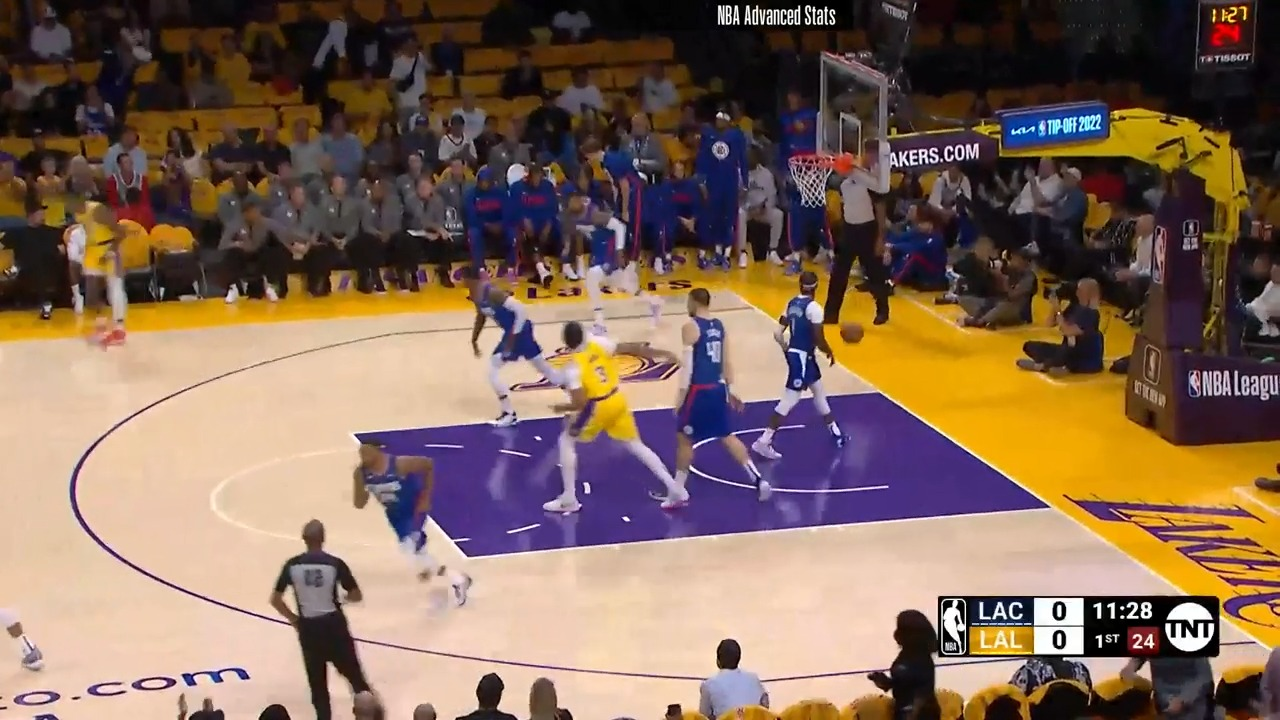net: (783, 145, 860, 212)
player: (531, 319, 679, 520), (651, 281, 770, 512), (346, 426, 482, 621), (460, 257, 581, 426), (551, 202, 667, 366), (758, 273, 855, 466), (63, 183, 135, 363), (0, 474, 53, 682)
referee: (261, 519, 385, 719), (821, 131, 893, 335)
